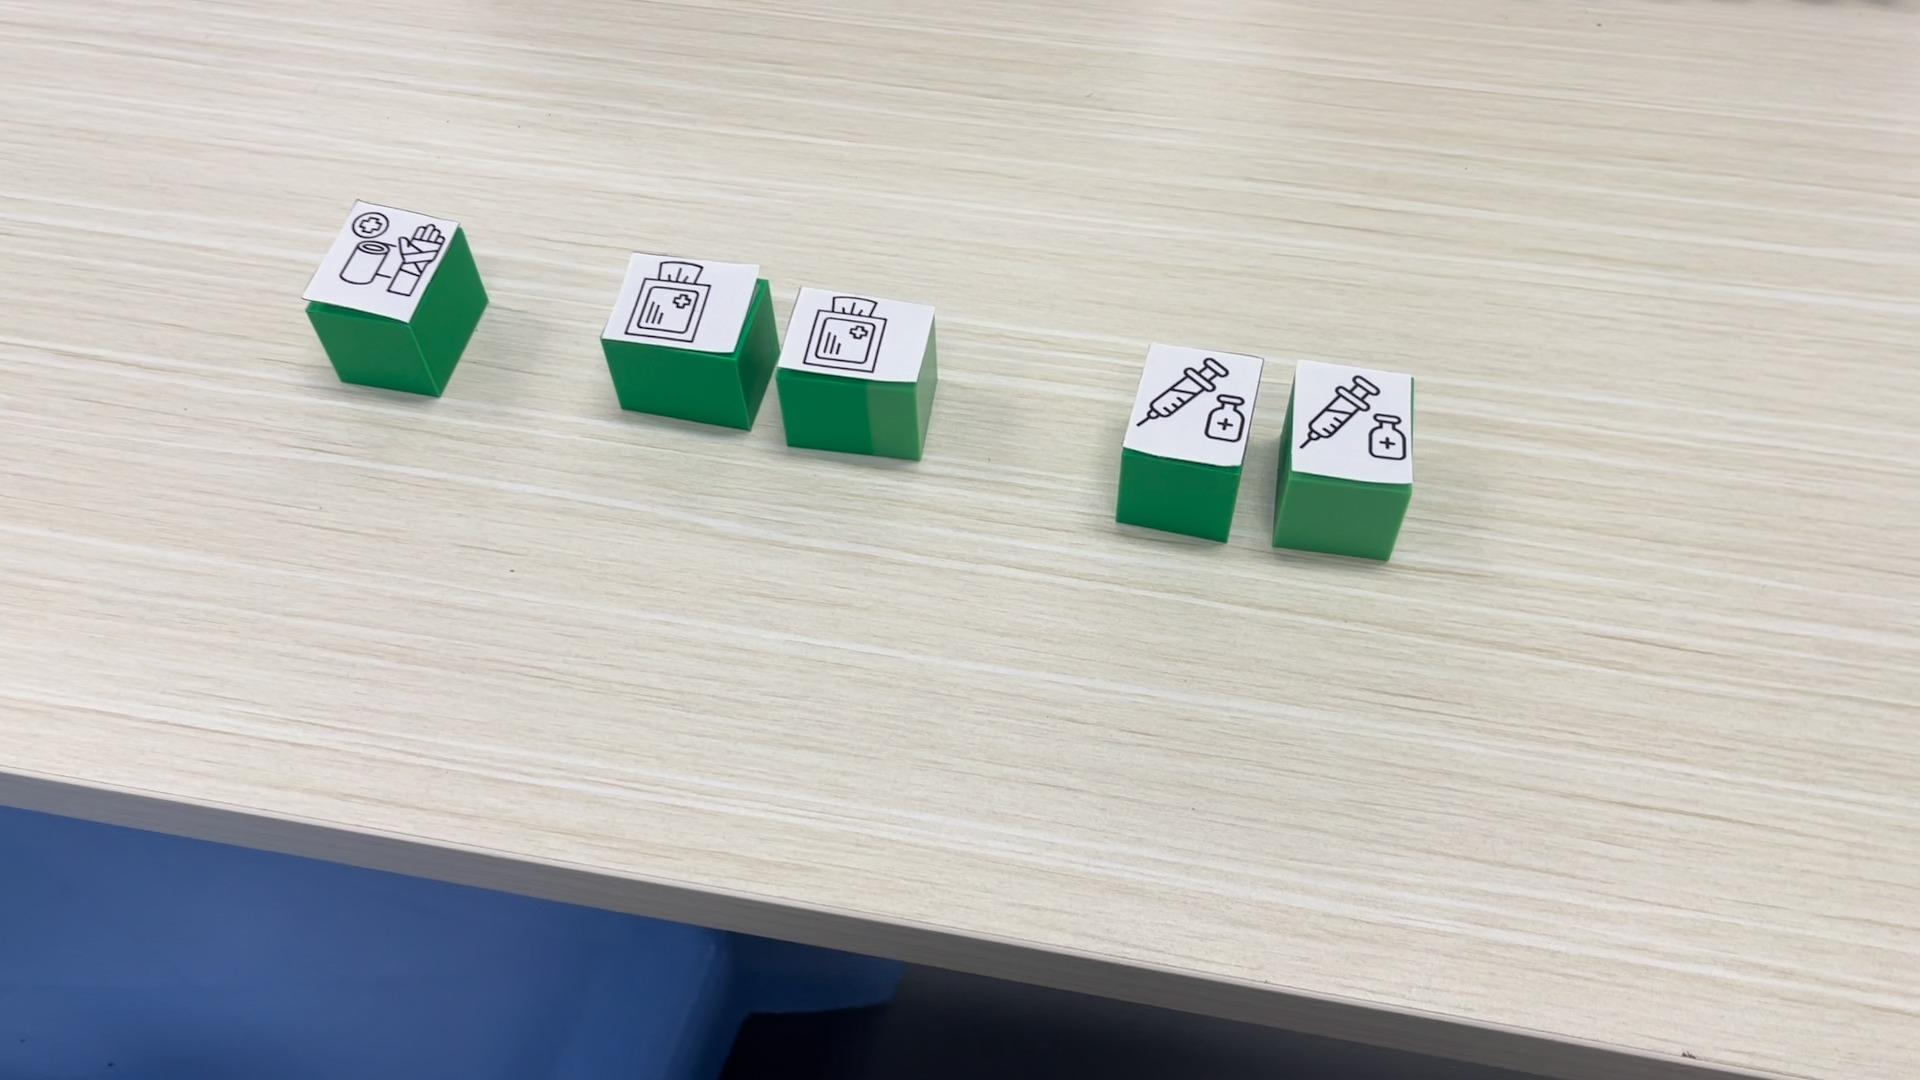Bandages: (301, 198, 488, 400)
Gauze: (600, 251, 777, 430), (778, 284, 939, 462)
antiseptic cream: (1259, 343, 1418, 560), (1114, 342, 1262, 549)
